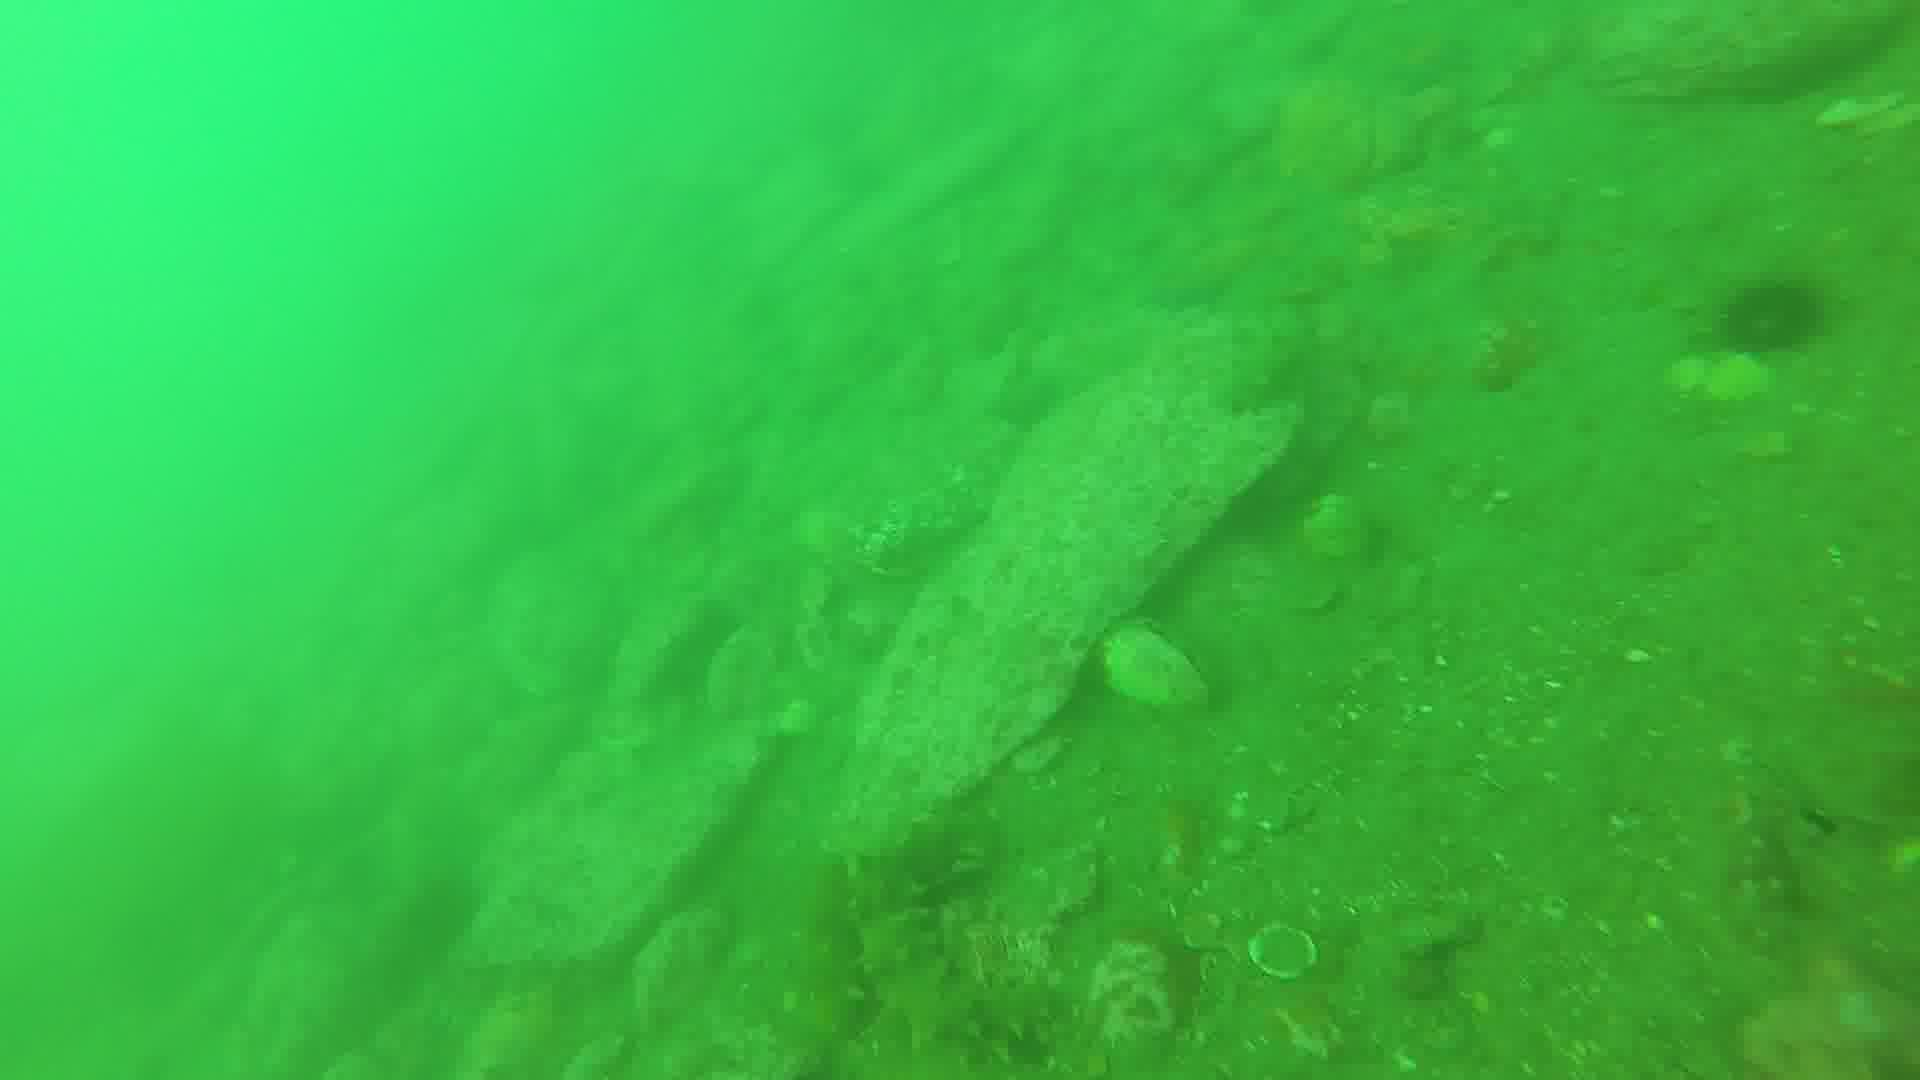echinus: (1730, 277, 1834, 359)
holothurian: (857, 820, 1054, 1073)
scallop: (1100, 626, 1233, 728), (1240, 923, 1335, 988)
